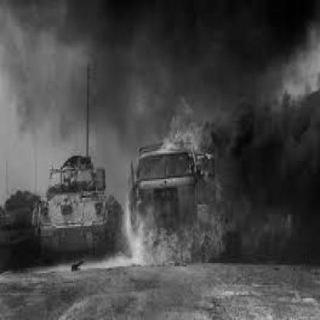Fire: (152, 102, 228, 160), (265, 205, 301, 249), (134, 191, 142, 215)
Smoke: (113, 8, 294, 72)
